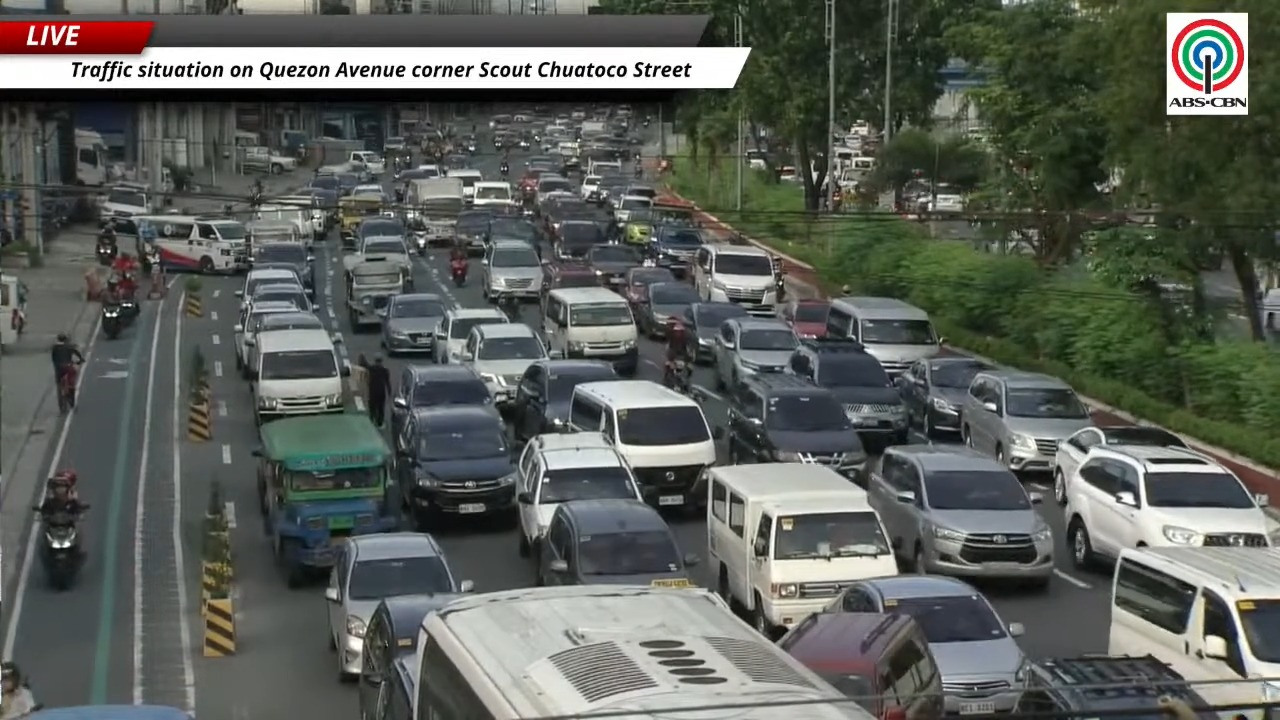bus: (414, 585, 872, 719), (112, 214, 248, 273), (26, 705, 191, 719)
car: (827, 575, 1026, 713), (867, 445, 1053, 587), (1064, 445, 1270, 568), (325, 534, 470, 678), (778, 612, 943, 719), (516, 432, 641, 556), (394, 406, 514, 528), (726, 373, 866, 477), (537, 499, 698, 586), (961, 369, 1091, 471), (785, 338, 908, 445), (1015, 655, 1211, 716), (1053, 425, 1188, 504), (509, 359, 618, 441), (894, 356, 991, 438), (390, 364, 492, 435), (462, 323, 547, 408), (237, 306, 323, 378), (713, 317, 797, 388), (233, 301, 297, 371), (433, 308, 509, 364), (380, 293, 446, 355), (684, 302, 748, 362), (482, 240, 543, 301), (635, 281, 697, 339), (253, 242, 314, 298), (650, 225, 706, 277), (235, 268, 301, 310), (586, 244, 642, 288), (624, 266, 675, 312), (540, 263, 599, 302), (554, 218, 606, 259), (779, 299, 829, 338), (247, 282, 312, 311), (455, 210, 492, 256), (489, 215, 541, 246), (356, 216, 407, 246), (536, 173, 572, 204), (613, 194, 652, 222), (597, 175, 628, 203)
motorcycle: (41, 514, 83, 590), (663, 358, 691, 394), (58, 363, 78, 413), (101, 302, 125, 339), (95, 235, 118, 266), (497, 294, 520, 322), (451, 261, 467, 287), (413, 230, 428, 256), (775, 272, 785, 301), (499, 162, 509, 178), (633, 163, 643, 178), (642, 116, 650, 127)
truck: (253, 413, 397, 586), (345, 256, 403, 331), (403, 177, 465, 245), (342, 233, 412, 290), (74, 128, 108, 186), (240, 146, 297, 174), (311, 137, 365, 164), (347, 151, 385, 177), (581, 120, 606, 137)
